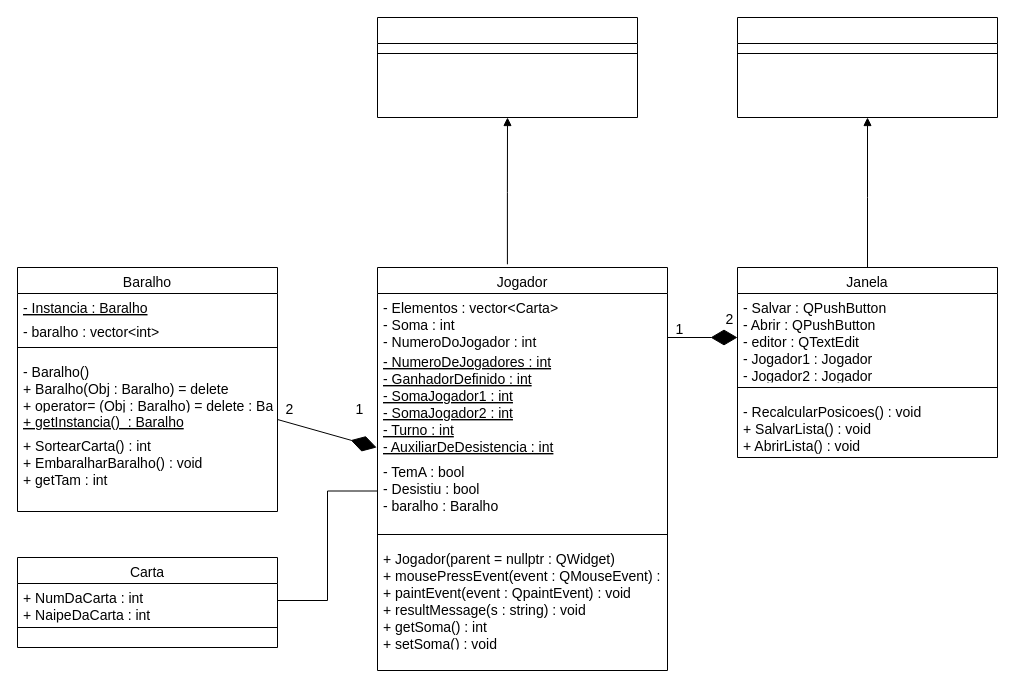
The diagram is 1015 pixels wide and 688 high, and some of its shapes have lost their labels. Each missing label, with the centre of its shape:
"QFrame" goes at point 507,67.
"QMainWindow" goes at point 867,67.
